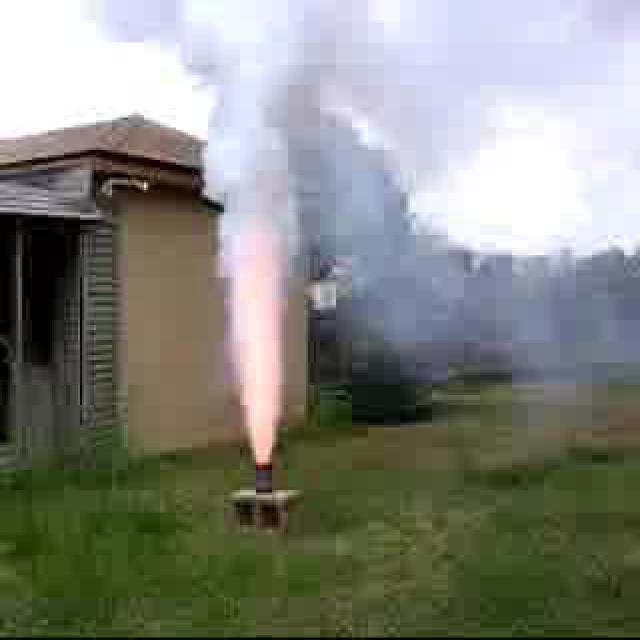Smoke: (188, 9, 308, 457)
